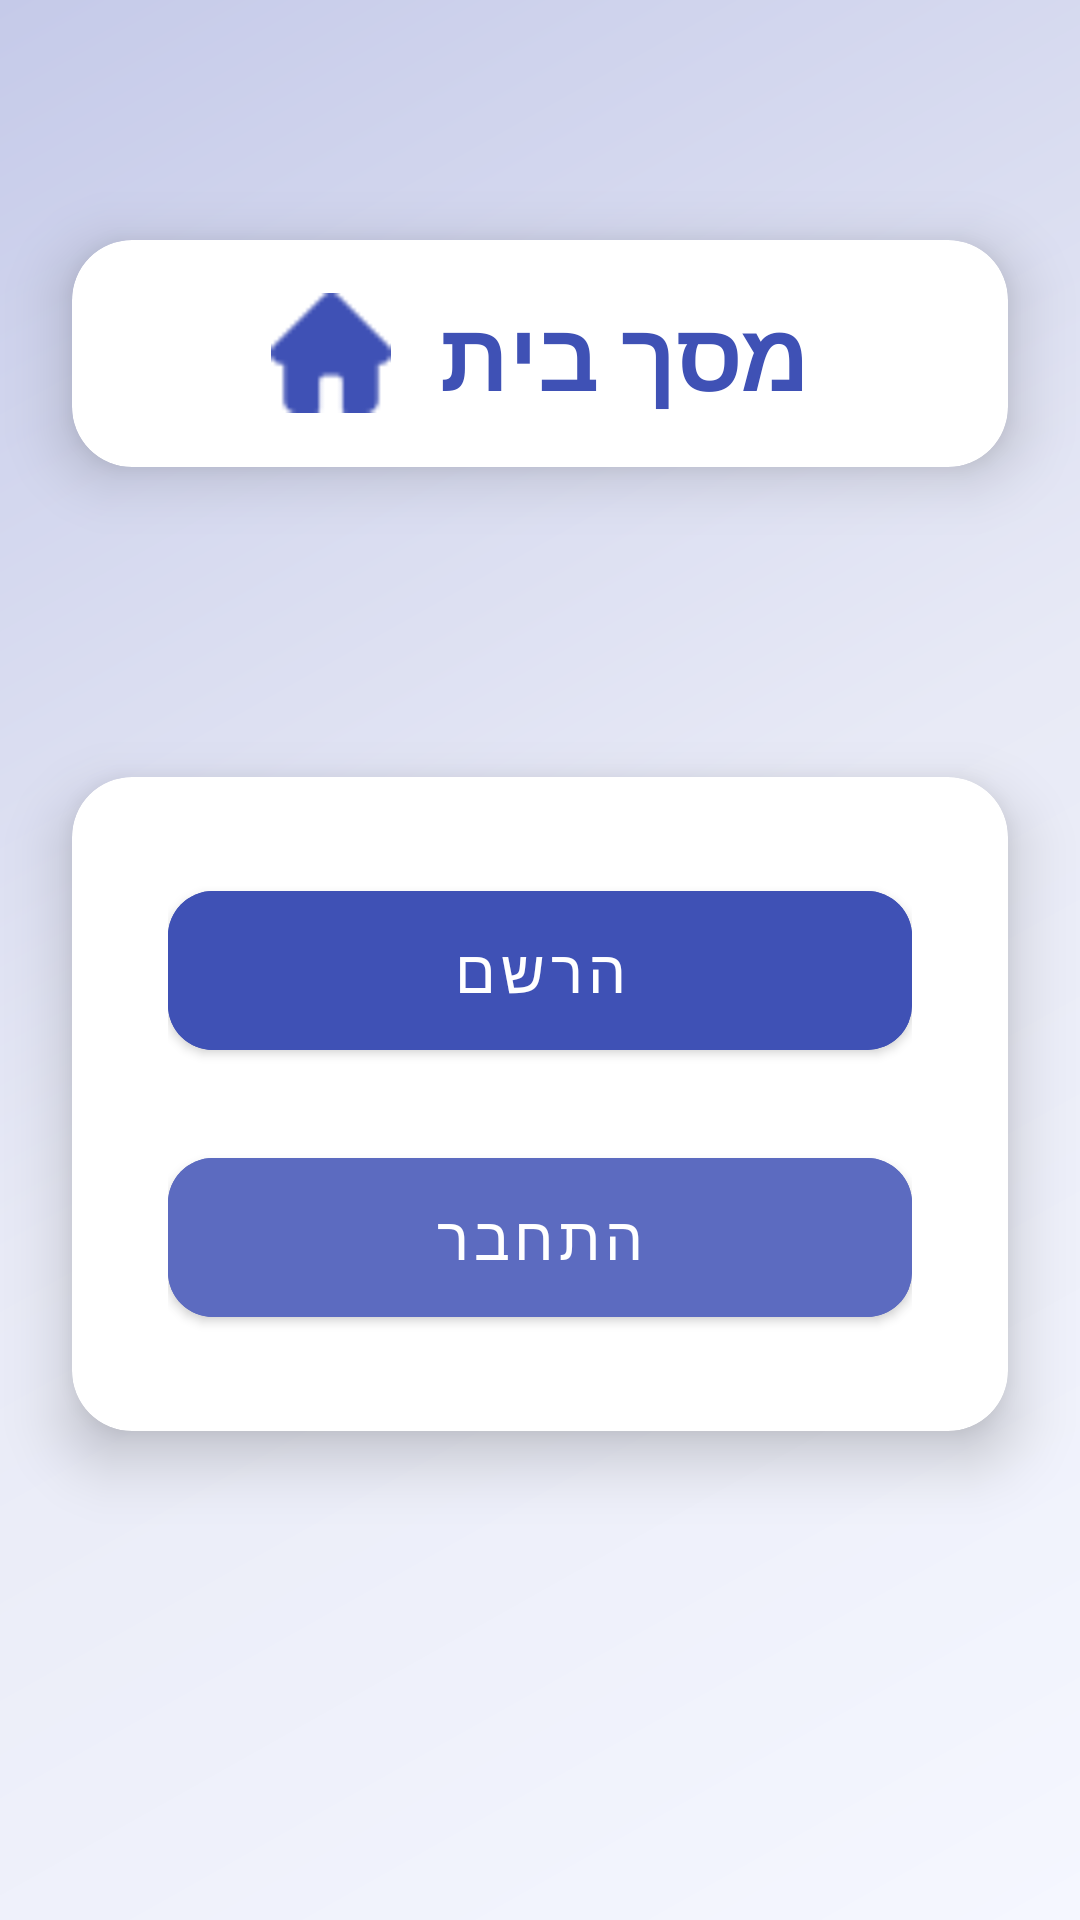

Screen size 1080 × 1920. Icon name, then its box in pixels as (x1, y1, x2, y2):
house: (271, 293, 391, 413)
